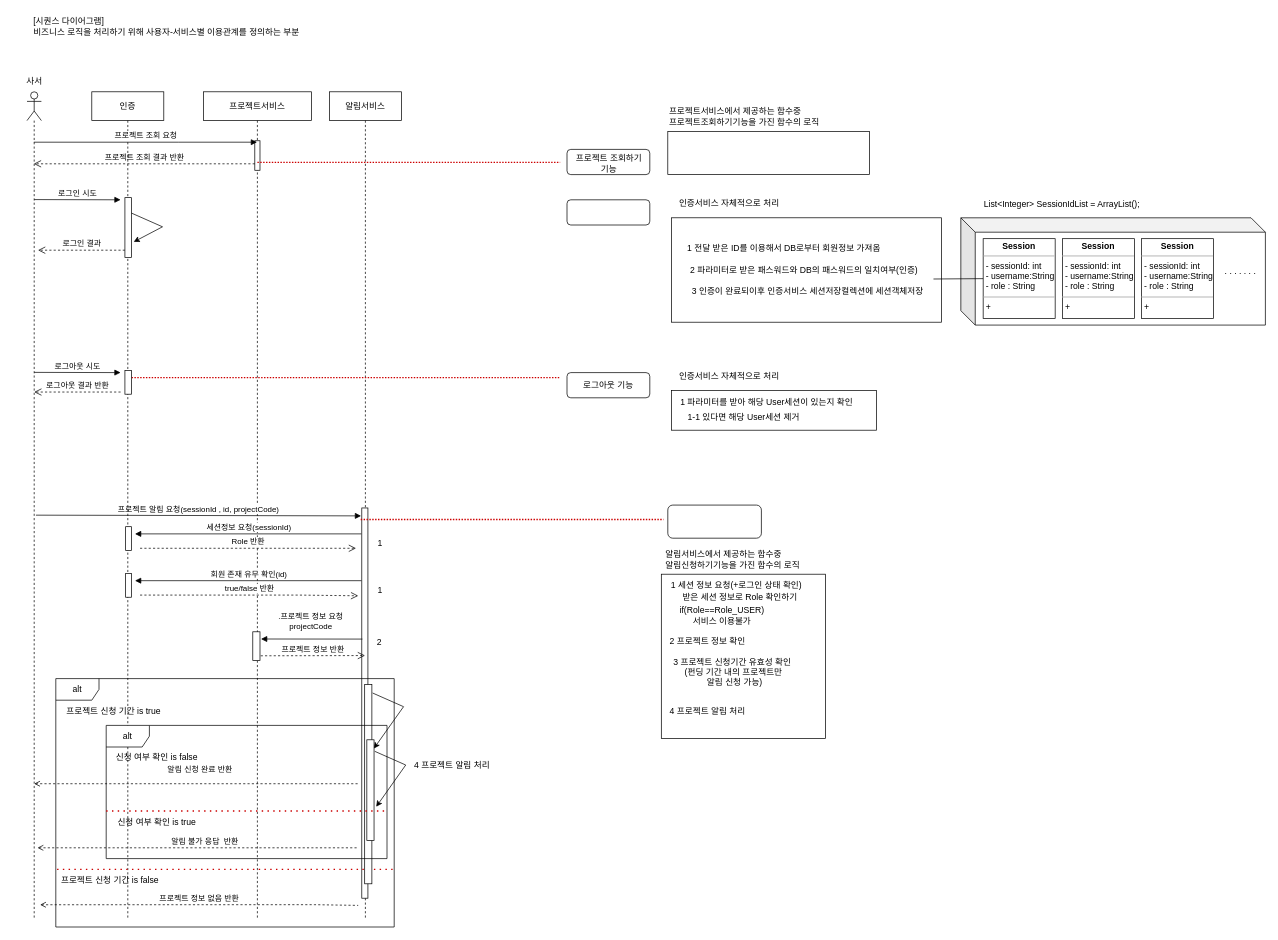
This 1278x940 diagram has some shape labels left out. Here are the shapes that lost their labels. From the top down, the centre of each, then its label:
At (768,153): "- 자체적으로 처리하면 된다(단일서비스만 사용) Service->Dao->DB->결과받기".
At (608,212): "로그인 기능".
At (714,521): "프로젝트 알림 신청하기 기능".
